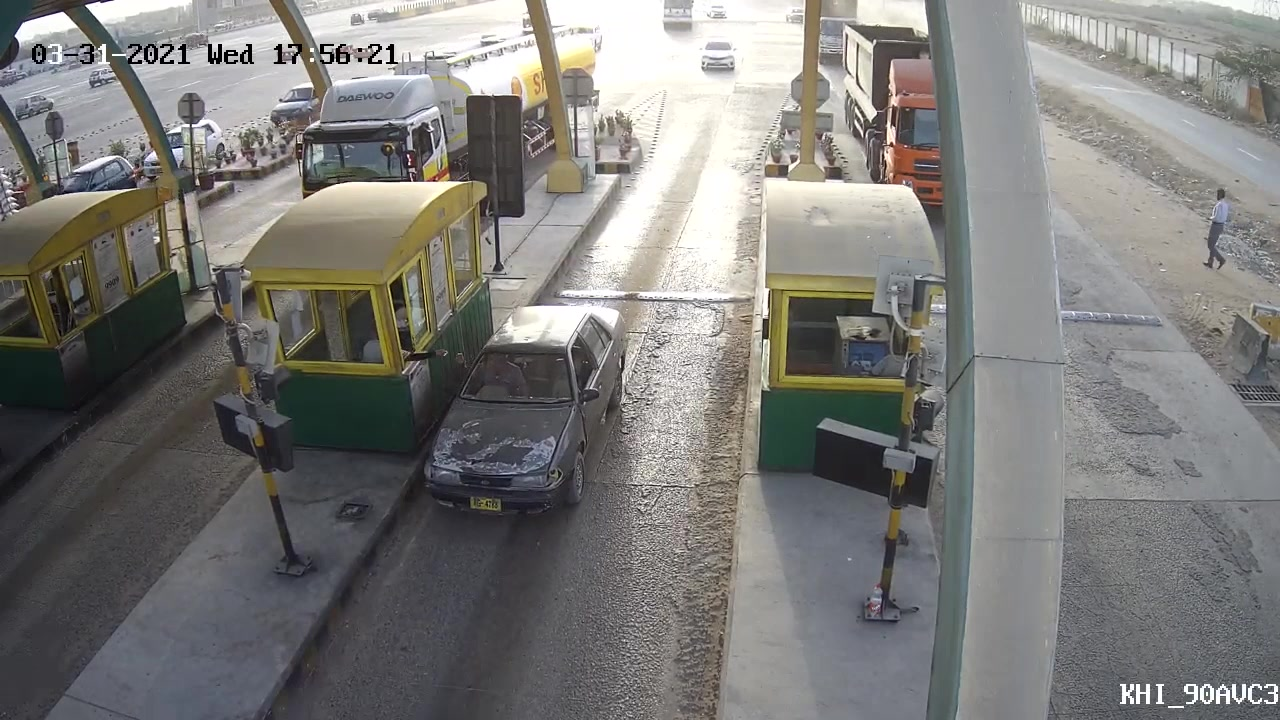F1: (416, 304, 636, 523)
